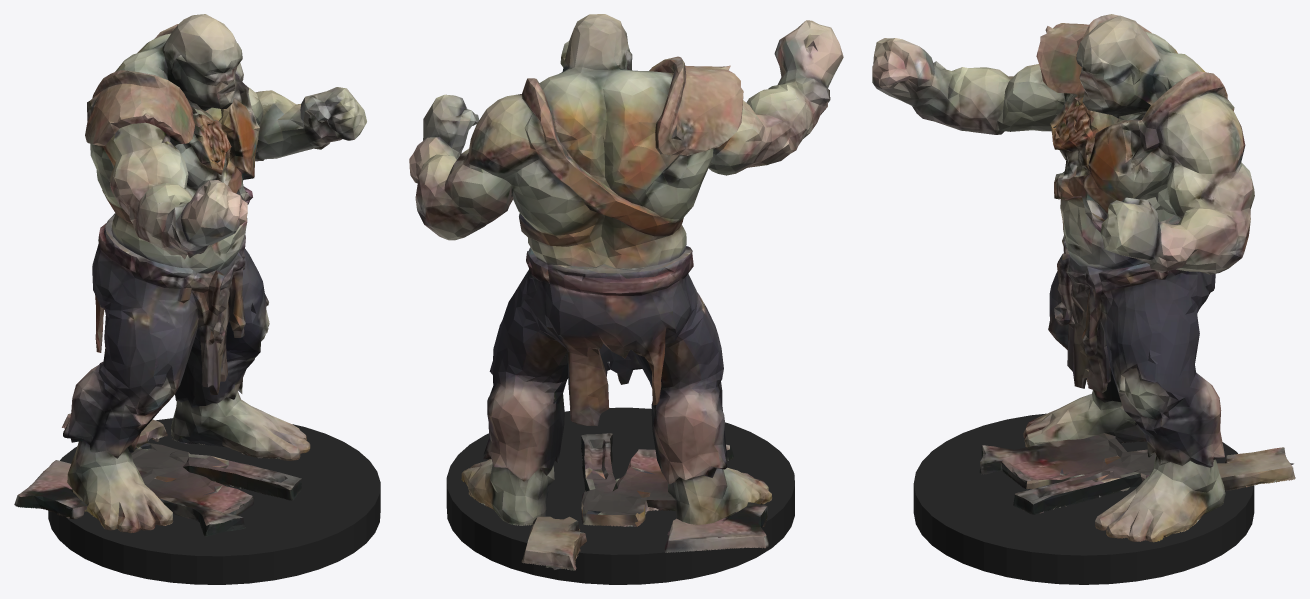
The model's file is super-mutant@heavy.glb.
3 renders of one model, left to right at view 1: azimuth 30°, elevation 25°; view 2: azimuth 150°, elevation 25°; view 3: azimuth 270°, elevation 25°, orthographic. The views are drawn at different scales.
Visible parts, largest first — view 1: figure, base; view 2: figure, base; view 3: figure, base.
Part boxes in pixels (bbox=[...]): figure: bbox=[14, 14, 366, 536]; base: bbox=[48, 418, 380, 584]; figure: bbox=[409, 14, 843, 570]; base: bbox=[446, 407, 794, 584]; figure: bbox=[872, 14, 1295, 542]; base: bbox=[913, 413, 1254, 584].
Size of the model in its own units: 1.48 by 2.02 by 1.57.
2 materials, 1 textured.
